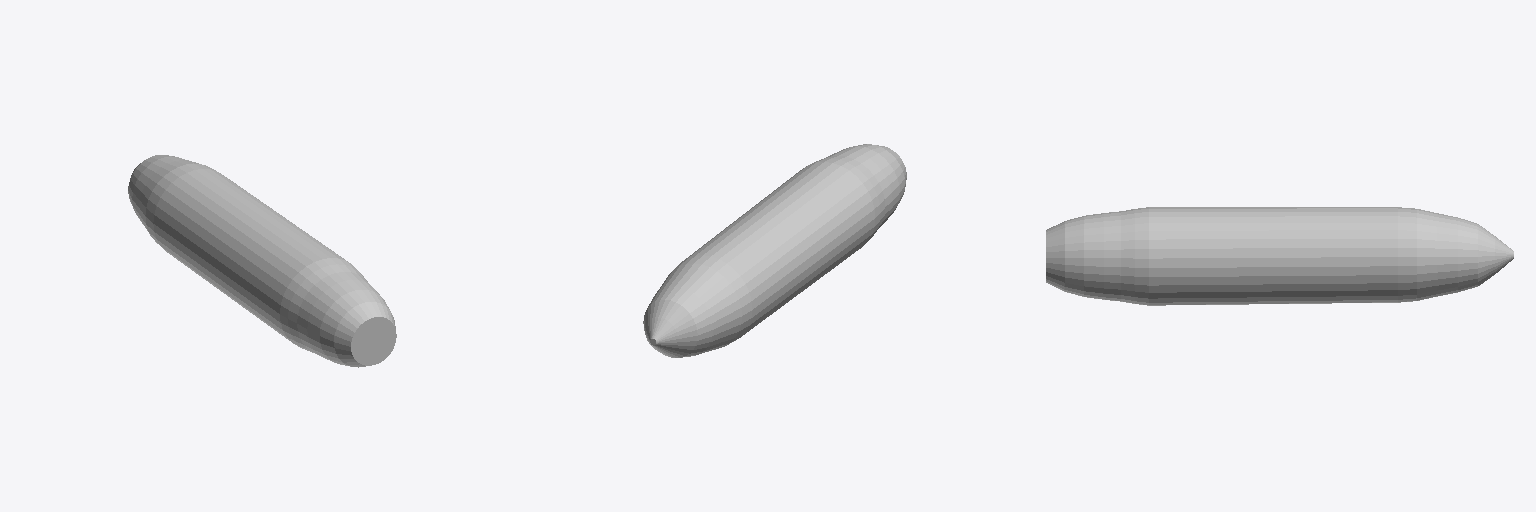
File: milho.obj
The picture shows the model from 3 angles: view 1: azimuth 30°, elevation 25°; view 2: azimuth 150°, elevation 25°; view 3: azimuth 270°, elevation 25°; orthographic projection.
Visible parts, largest first — view 1: Cylinder.001_Cylinder.002; view 2: Cylinder.001_Cylinder.002; view 3: Cylinder.001_Cylinder.002.
Part boxes in pixels (left/top/right/bottom): Cylinder.001_Cylinder.002: left=128, top=155, right=396, bottom=367; Cylinder.001_Cylinder.002: left=643, top=144, right=906, bottom=357; Cylinder.001_Cylinder.002: left=1046, top=207, right=1513, bottom=305.
Size of the model in its own units: 0.907 by 0.8883 by 4.21.